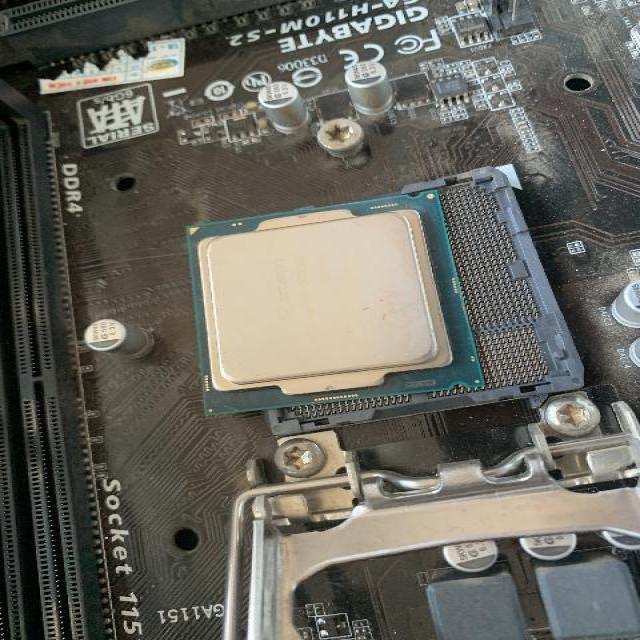CPU: (183, 190, 485, 416)
Mainboard: (0, 0, 640, 640)
